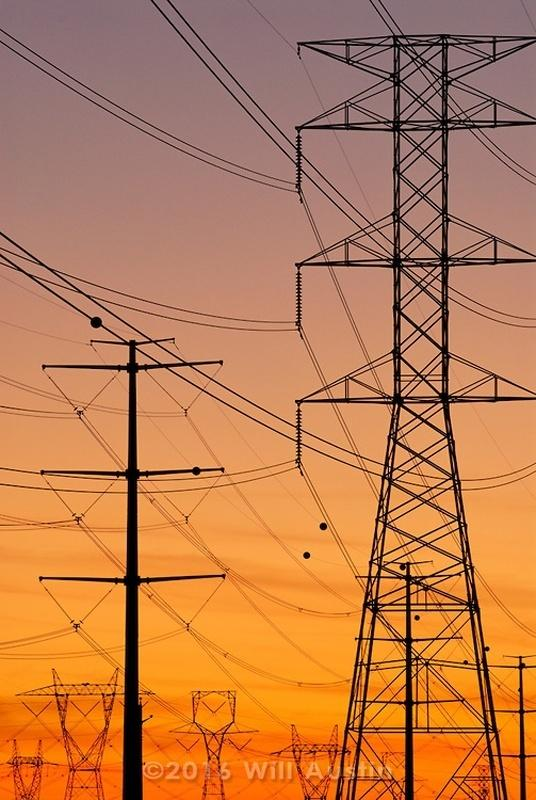power_tower: (275, 13, 516, 735)
